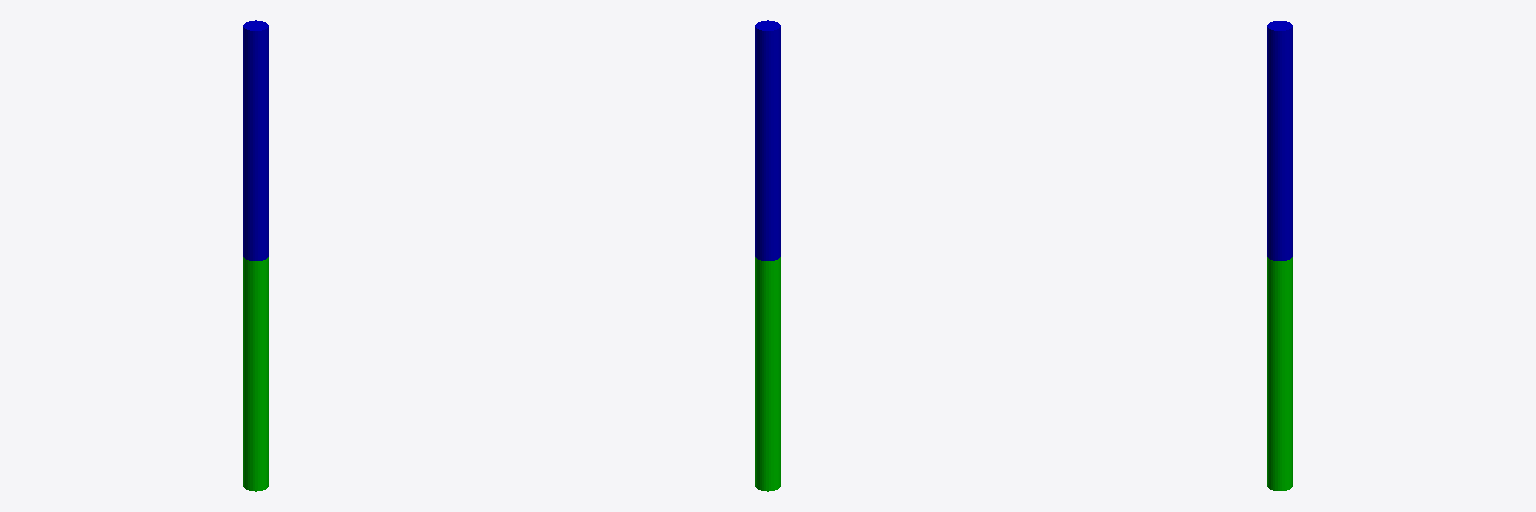
The robot description file, URDF, robot "RRbot":
<?xml version="1.0"?>
<robot name="RRbot">

  <!-- Links -->
  <link name="base_link"/>

  <link name="link_1">
    <visual>
      <geometry>
        <cylinder length="1.0" radius="0.05"/>
      </geometry>
      <!-- Z-up -->
      <origin xyz="0 0 0.5" rpy="0 0 0"/> 
      <!-- <origin xyz="0.5 0 0" rpy="0 1.5708 0"/> -->
      <material name="green">
        <color rgba="0 0.8 0 1"/>
      </material>
    </visual>
  </link>

  <link name="link_2">
    <visual>
      <geometry>
        <cylinder length="1.0" radius="0.05"/>
      </geometry>
      <!-- Z-up  -->
      <origin xyz="0 0 0.5" rpy="0 0 0"/>    
      <!-- <origin xyz="0.5 0 0" rpy="0 1.5708 0"/> -->
      <material name="blue">
        <color rgba="0 0 0.8 1"/>
      </material>
    </visual>
  </link>

  <!-- Joints -->
  <!-- joint_1: base_link -> link_1 — this is ⁰₁T -->
  <joint name="joint_1" type="revolute">
    <parent link="base_link"/>
    <child  link="link_1"/>
    <origin xyz="0 0 0" rpy="0 0 0"/>
    <!-- Z-up  -->
    <axis xyz="0 1 0"/>
    <!-- <axis   xyz="0 0 1"/> -->
    <limit  lower="-1.5" upper="1.5" effort="10" velocity="1"/>
  </joint>

  <!-- joint_2: link_1 -> link_2 — this is ¹₂T -->
  <joint name="joint_2" type="revolute">
    <parent link="link_1"/>
    <child  link="link_2"/>
    <!-- Z-up  -->
    <origin xyz="0 0 1.0" rpy="0 0 0"/>
    <!-- <origin xyz="1.0 0 0" rpy="0 0 0"/> -->
    <!-- Z-up  -->
    <axis xyz="0 1 0"/>
    <!-- <axis   xyz="0 0 1"/> -->
    <limit  lower="-3.14159" upper="3.14159" effort="10" velocity="1"/>
  </joint>

</robot>

--- Facts derived from the render (not from the file) ---
Views: 3 orthographic renders of the robot side by side, from view 1: azimuth 30°, elevation 25°; view 2: azimuth 150°, elevation 25°; view 3: azimuth 270°, elevation 25°.
Robot: RRbot — 3 links, 2 joints (2 revolute); root link base_link; default pose: all joints at 0.
Links seen in each view (by area): view 1: link_2, link_1; view 2: link_2, link_1; view 3: link_2, link_1.
Link boxes in pixels (x1=…): link_2: x1=243, y1=20, x2=268, y2=260; link_1: x1=243, y1=257, x2=268, y2=491; link_2: x1=755, y1=20, x2=780, y2=260; link_1: x1=755, y1=257, x2=780, y2=491; link_2: x1=1267, y1=21, x2=1292, y2=260; link_1: x1=1267, y1=257, x2=1292, y2=490.
Bounding box of the posed robot: 0.1 × 0.1 × 2 m (x, y, z).
Geometry: primitives only (box / cylinder / sphere), no mesh files.
